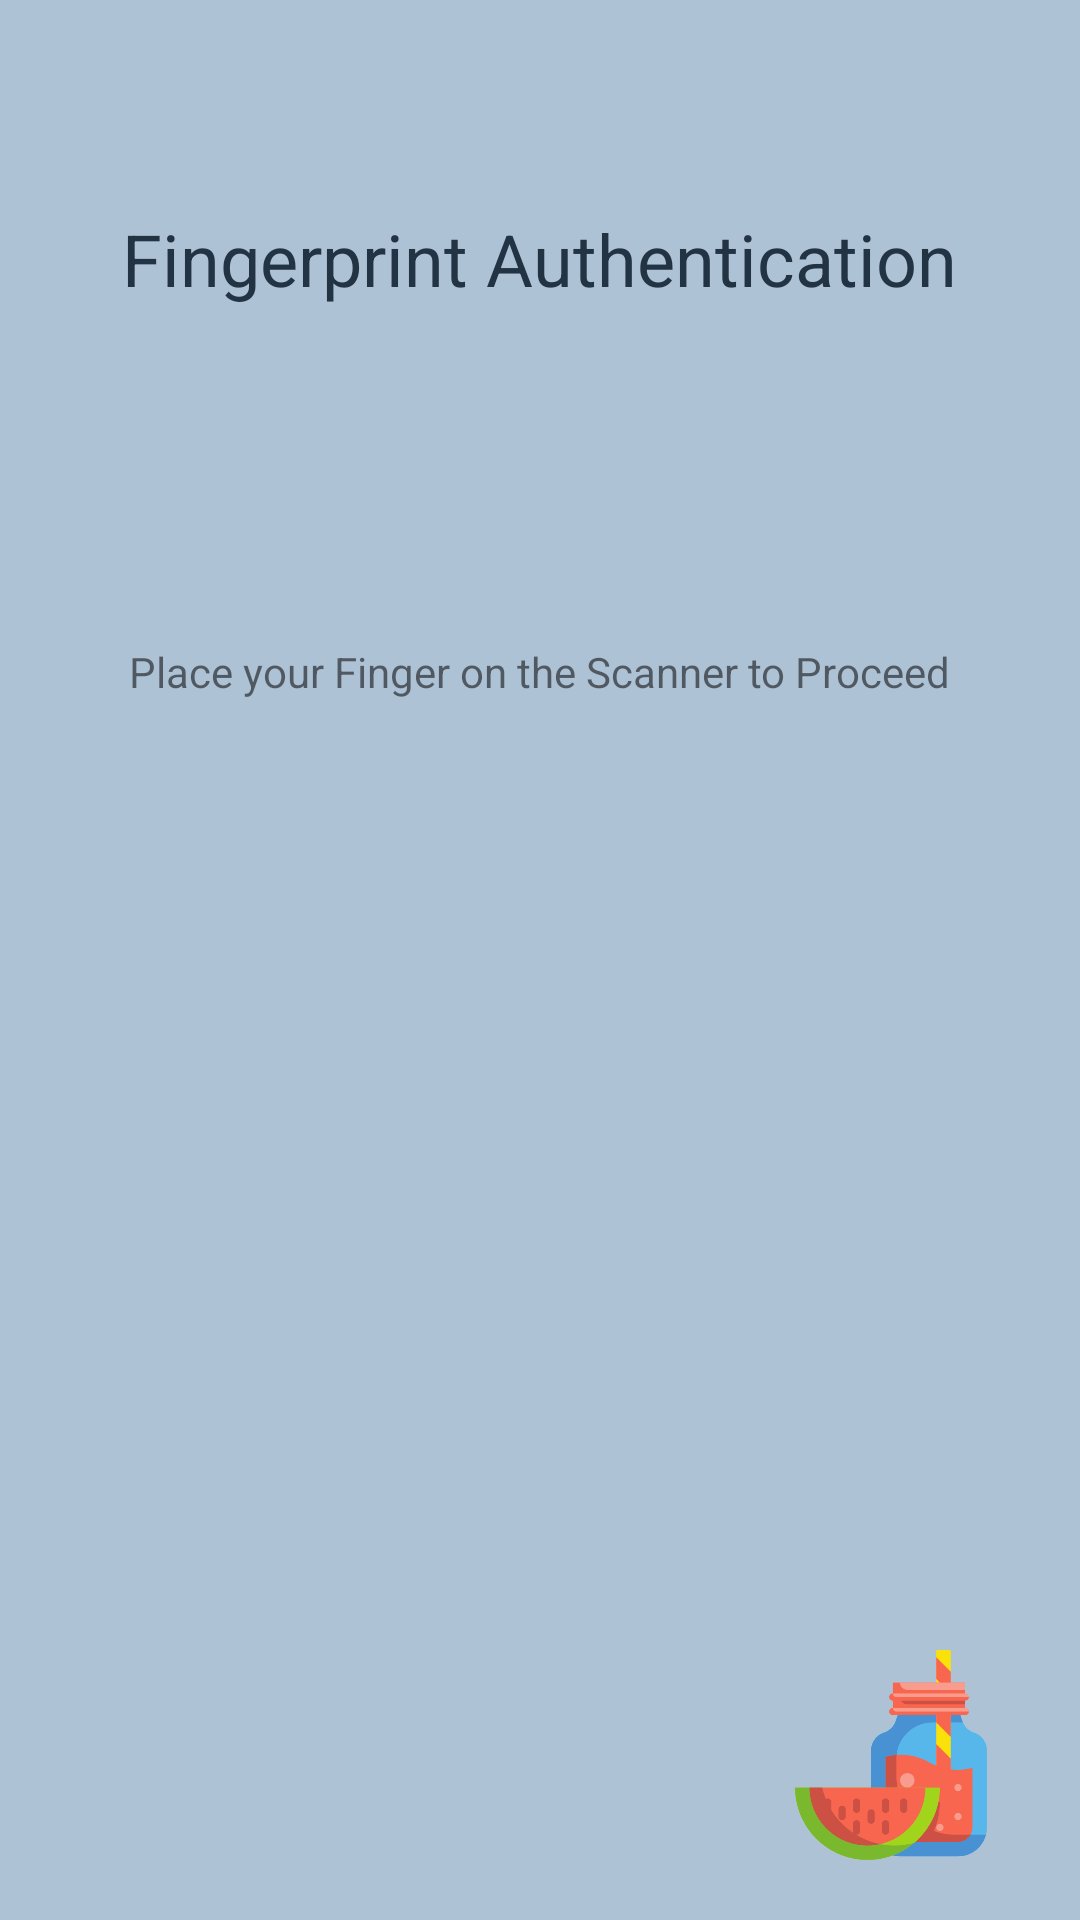

Screen size 1080 × 1920. Icon name, then its center in pixels as (x,y):
juice: (891,1755)
